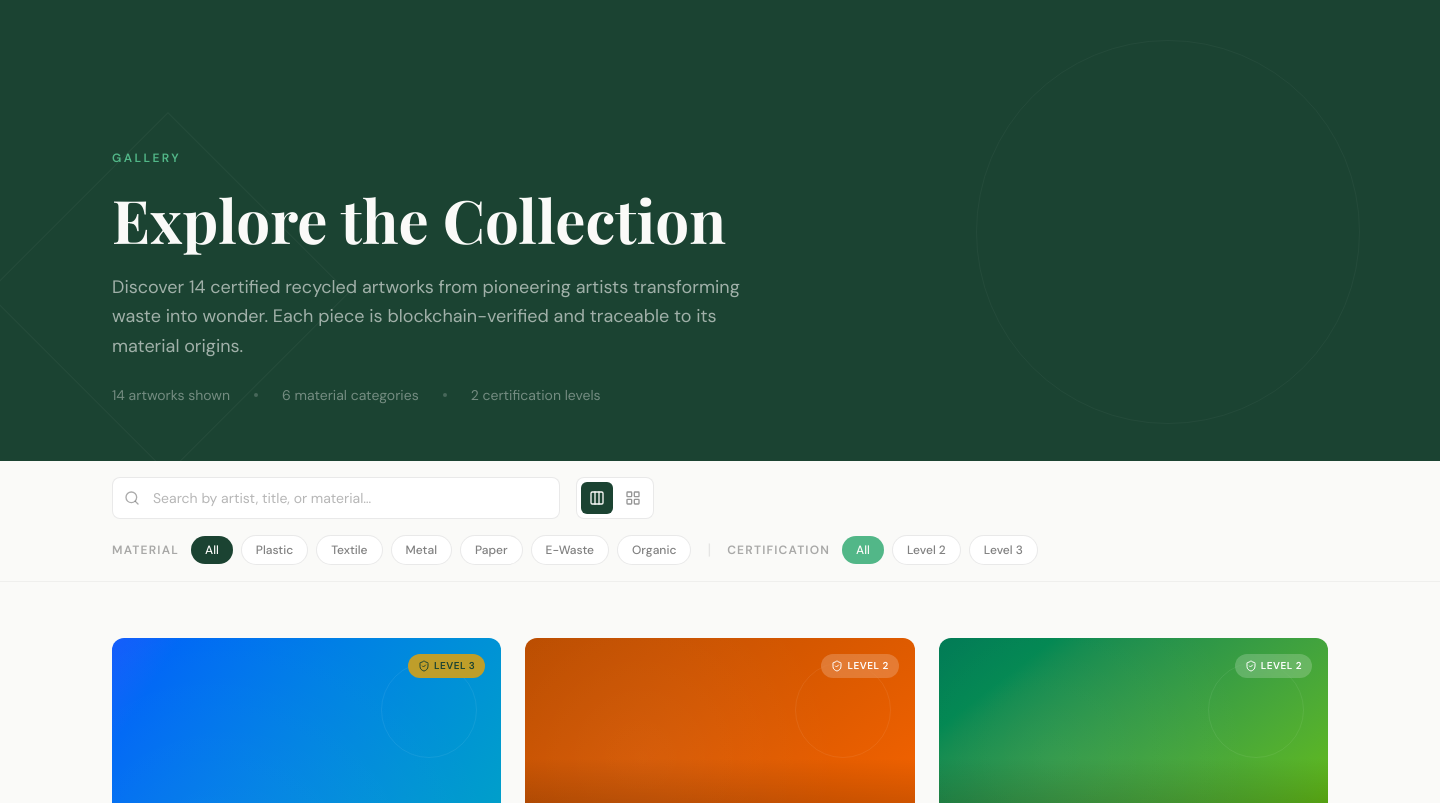
GalleryPage › shows empty state when no results match
In the field named "Search artworks": (336, 498) [112,477,560,519], type "xyznonexistent"
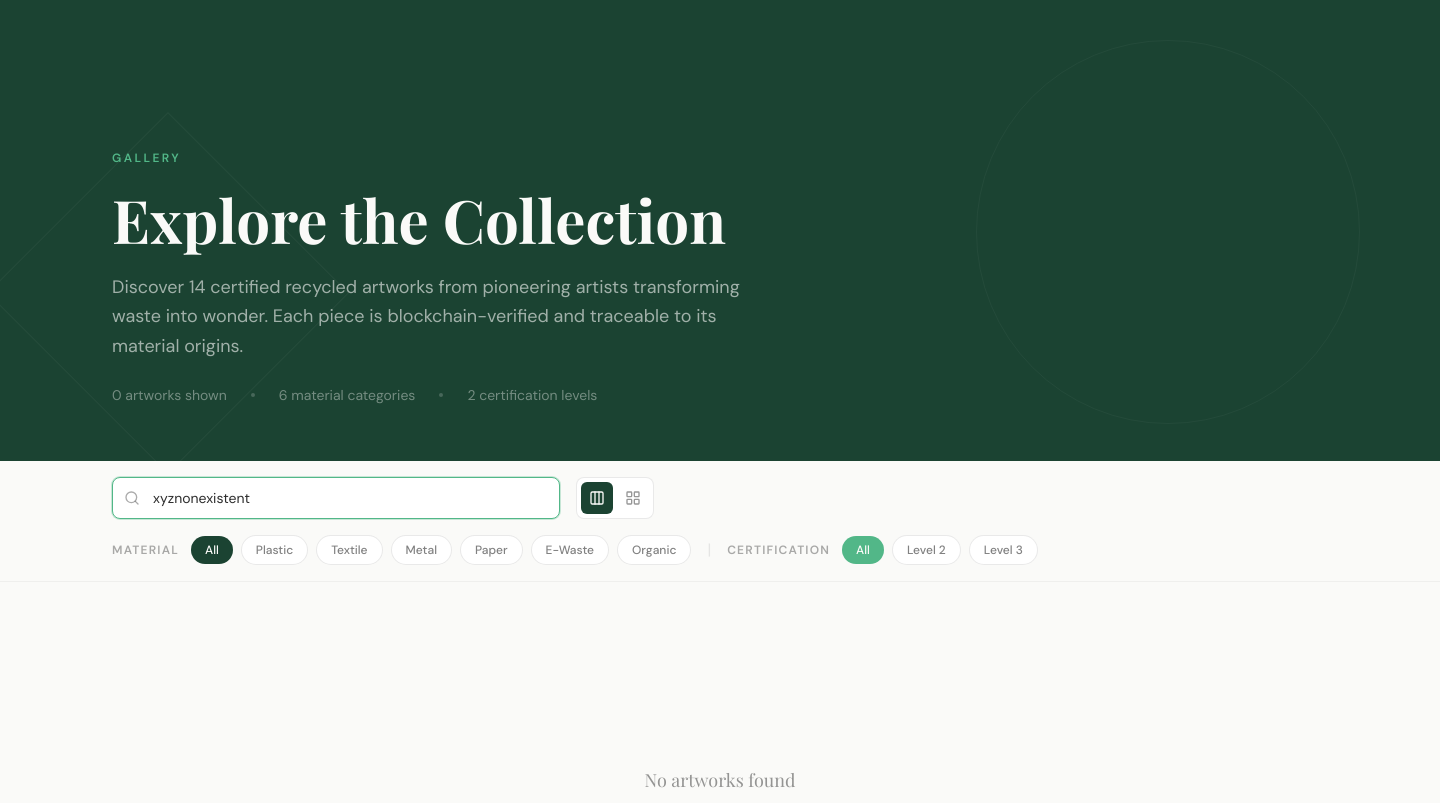
Expected: the text "No artworks found" is shown, [644,766,795,794]
